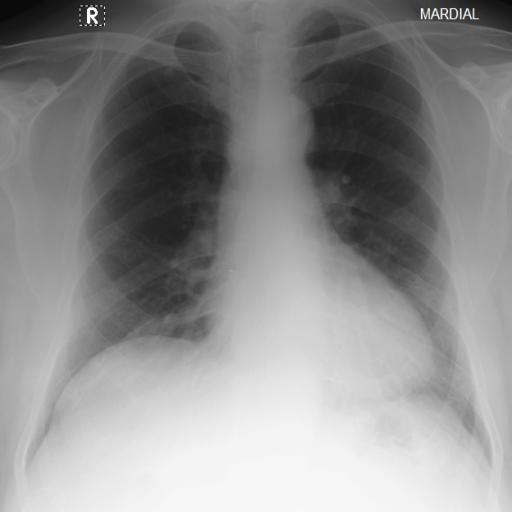kardiomegali: (18, 0, 510, 478)
